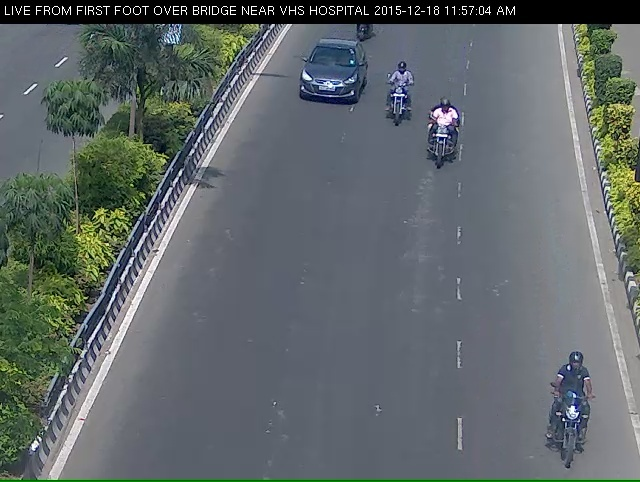Car: (288, 49, 357, 126)
Person: (553, 390, 599, 474), (378, 73, 409, 138), (423, 119, 453, 181)
